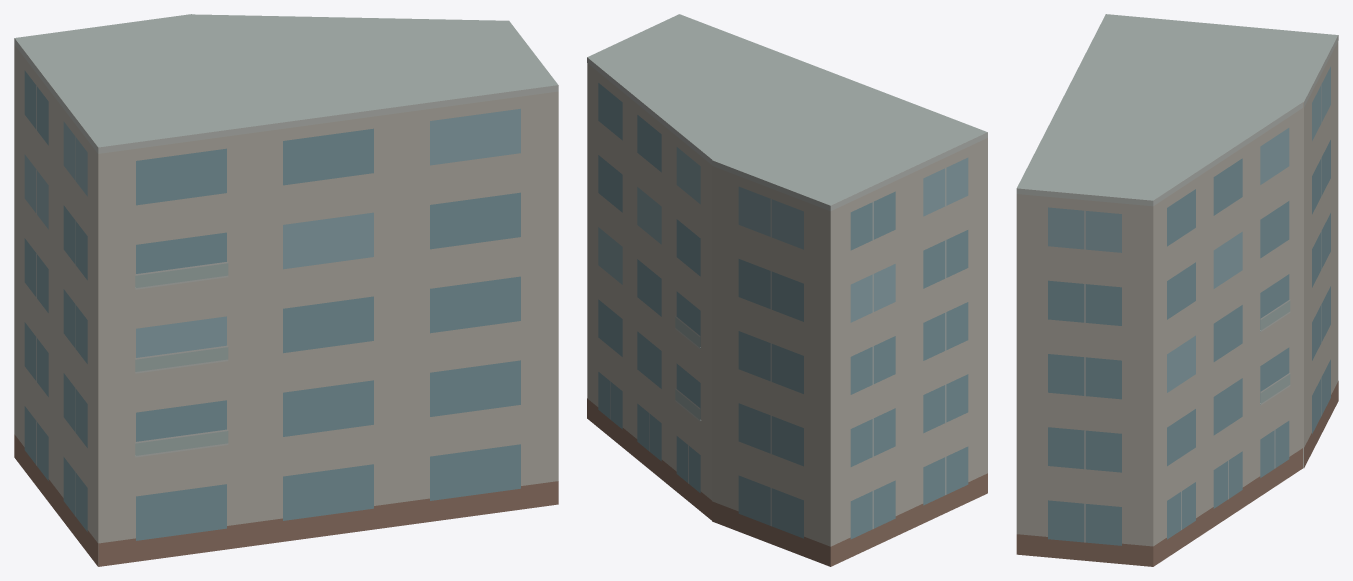
The model's file is survey-upis-32864850.glb.
The picture shows the model from 3 angles, left to right: view 1: azimuth 30°, elevation 25°; view 2: azimuth 150°, elevation 25°; view 3: azimuth 270°, elevation 25°; orthographic projection. The views are drawn at different scales.
Visible parts, largest first — view 1: survey-upis-32864850.tmp; view 2: survey-upis-32864850.tmp; view 3: survey-upis-32864850.tmp.
Part boxes in pixels (box(x1,y1,x2,y2)): survey-upis-32864850.tmp: box(14, 14, 558, 566); survey-upis-32864850.tmp: box(587, 14, 987, 566); survey-upis-32864850.tmp: box(1016, 14, 1338, 566).
Bounding box in the file's own units: 17.34 × 15.85 × 12.63.
